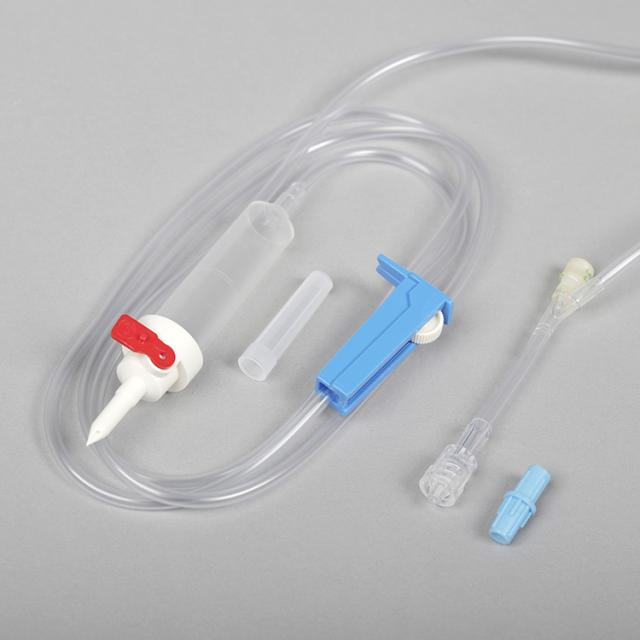B3: (44, 29, 637, 553)
